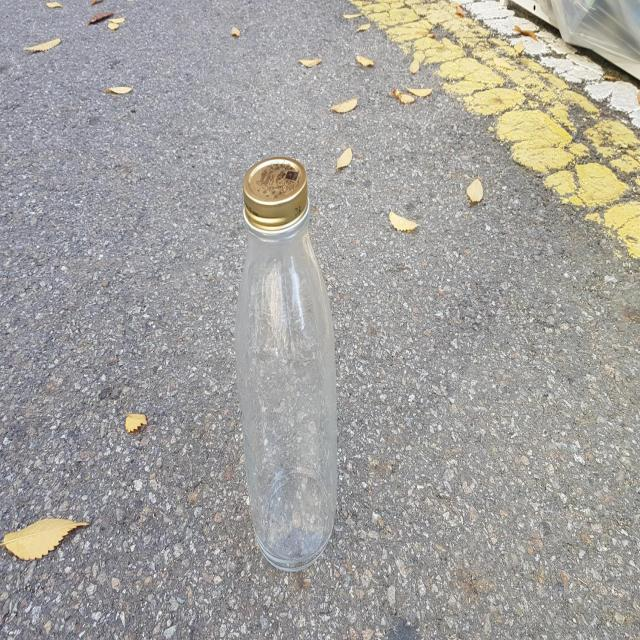glass: (235, 155, 337, 571)
